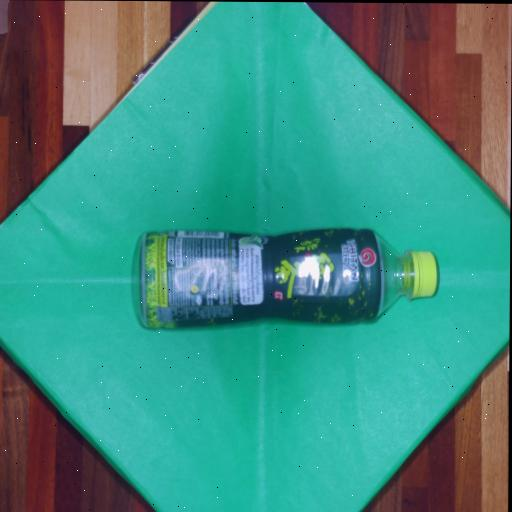bottle: (100, 197, 459, 362)
